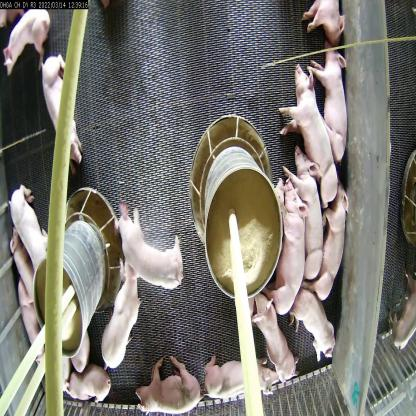Pig: (277, 57, 339, 210), (111, 189, 192, 300), (280, 143, 330, 285), (245, 278, 300, 395), (305, 36, 354, 162), (38, 55, 91, 171), (5, 177, 56, 281), (124, 351, 206, 415), (271, 169, 305, 323), (288, 280, 341, 378), (102, 255, 143, 375), (317, 175, 351, 309), (202, 351, 281, 407), (0, 6, 53, 80), (5, 228, 39, 319), (13, 275, 46, 368), (61, 364, 123, 412), (292, 0, 352, 48)
